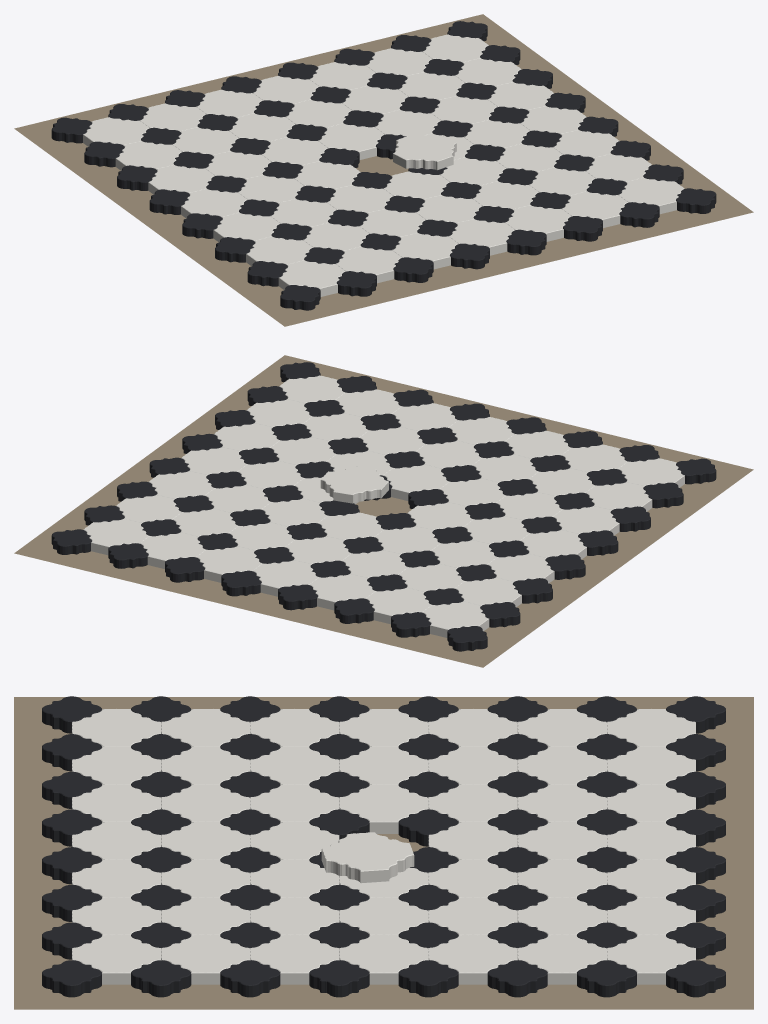
The model's file is terilgan.glb.
3 renders of one model, top to bottom at view 1: azimuth 30°, elevation 25°; view 2: azimuth 150°, elevation 25°; view 3: azimuth 270°, elevation 25°, orthographic. The views are drawn at different scales.
Parts seen in each view (by area): view 1: qum, t.060, t.009, t.039, t.054, t.099, t.024, t.062, t.084, t.069, t.017, t.019 (+99 smaller); view 2: qum, t.060, t.021, t.066, t.111, t.036, t.051, t.058, t.096, t.081, t.013, t.011 (+99 smaller); view 3: qum, t.060, t.107, t.101, t.109, t.103, t.105, t.045, t.111, t.099, t.034, t.026 (+101 smaller).
Part boxes in pixels (x1,y1,x2,y2): qum: [14, 14, 753, 326]; t.060: [393, 134, 456, 170]; t.009: [278, 260, 345, 296]; t.039: [392, 233, 458, 269]; t.054: [448, 219, 514, 255]; t.099: [618, 178, 684, 214]; t.024: [336, 246, 401, 283]; t.062: [318, 123, 384, 159]; t.084: [561, 191, 627, 227]; t.069: [505, 205, 571, 241]; t.017: [148, 165, 214, 194]; t.019: [115, 141, 181, 170]; qum: [14, 355, 753, 667]; t.060: [320, 466, 388, 503]; t.021: [422, 601, 489, 637]; t.066: [253, 560, 319, 596]; t.111: [83, 519, 149, 555]; t.036: [366, 587, 431, 624]; t.051: [310, 574, 375, 610]; t.058: [383, 464, 449, 500]; t.096: [140, 532, 206, 568]; t.081: [196, 546, 262, 582]; t.013: [553, 506, 619, 535]; t.011: [586, 482, 652, 511]; qum: [14, 697, 753, 1009]; t.060: [321, 832, 414, 883]; t.107: [428, 935, 517, 984]; t.101: [161, 935, 250, 984]; t.109: [517, 935, 606, 984]; t.103: [250, 935, 339, 984]; t.105: [339, 935, 428, 984]; t.045: [339, 784, 428, 833]; t.111: [607, 935, 695, 984]; t.099: [72, 935, 160, 984]; t.034: [517, 746, 606, 784]; t.026: [161, 746, 250, 784].
Size of the model in its own units: 1.66 by 0.062 by 1.66.
